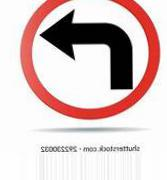left: (19, 3, 160, 120)
